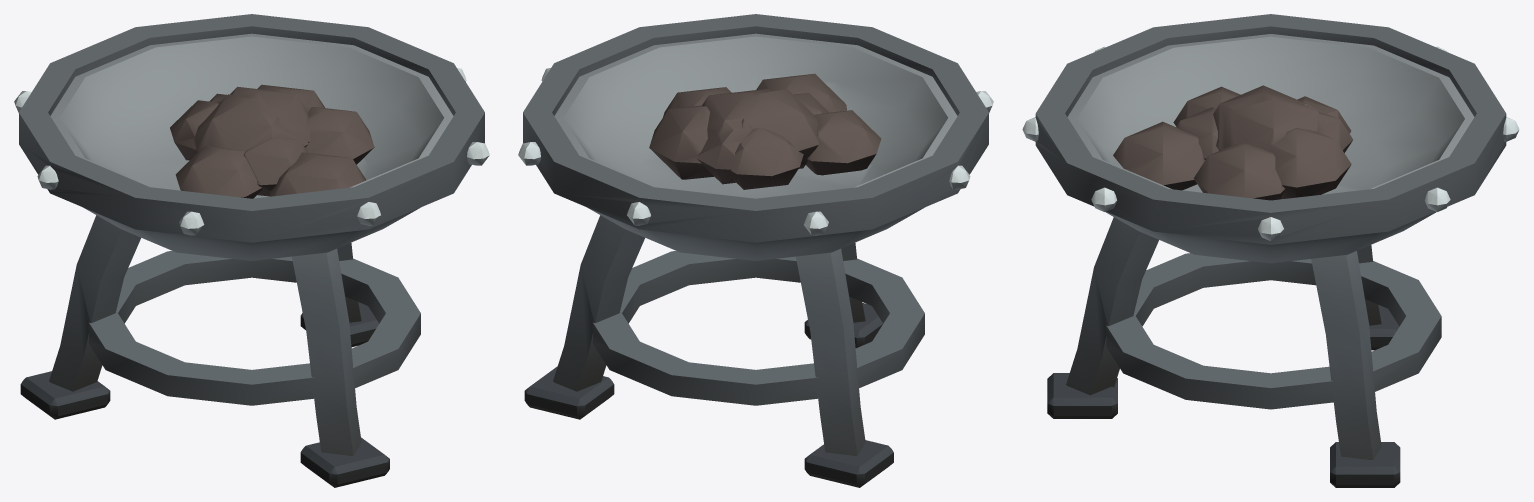
Rendered from brazier.glb.
3 views of the same model, side by side, from view 1: azimuth 30°, elevation 25°; view 2: azimuth 150°, elevation 25°; view 3: azimuth 270°, elevation 25° (orthographic).
Parts seen in each view (by area): view 1: Item; view 2: Item; view 3: Item.
Part boxes in pixels (left/top/right/bottom): Item: left=14, top=14, right=489, bottom=487; Item: left=518, top=14, right=993, bottom=487; Item: left=1022, top=14, right=1519, bottom=487.
Size of the model in its own units: 1.69 by 1.17 by 1.69.
3 materials, 3 textured.
